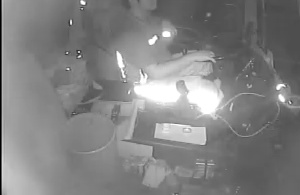paper: (152, 121, 210, 148)
